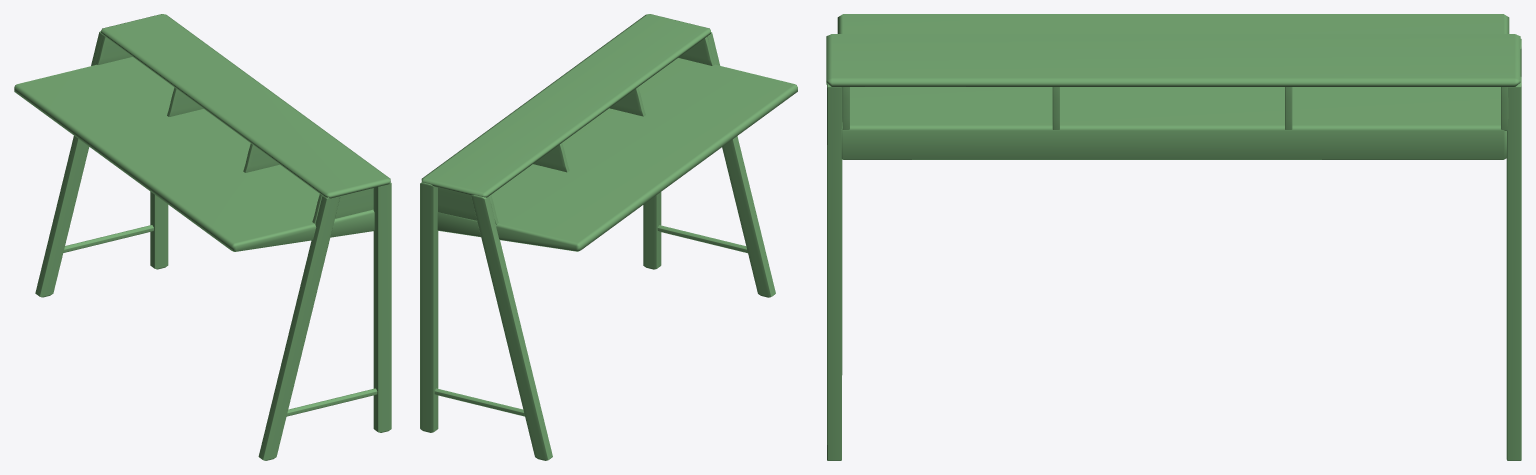
File: Table.fbx
3 views of the same model, side by side, from view 1: azimuth 30°, elevation 25°; view 2: azimuth 150°, elevation 25°; view 3: azimuth 270°, elevation 25° (orthographic). The views are drawn at different scales.
Parts seen in each view (by area): view 1: pCube37, pCube38, pCube47, pCube45, pCube46, pCube44, pCube40, pCube49, pCube48, pCube42, pCube43, pCube39; view 2: pCube37, pCube38, pCube46, pCube44, pCube47, pCube45, pCube39, pCube49, pCube48, pCube42, pCube40, pCube43; view 3: pCube37, pCube38, pCube44, pCube45.
Part boxes in pixels (left/top/right/bottom): pCube37: left=14, top=57, right=374, bottom=251; pCube38: left=101, top=14, right=390, bottom=198; pCube47: left=258, top=196, right=340, bottom=460; pCube45: left=373, top=182, right=391, bottom=432; pCube46: left=35, top=31, right=103, bottom=297; pCube44: left=150, top=191, right=168, bottom=269; pCube40: left=312, top=188, right=373, bottom=223; pCube49: left=286, top=388, right=377, bottom=416; pCube48: left=63, top=225, right=153, bottom=252; pCube42: left=243, top=143, right=279, bottom=172; pCube43: left=167, top=87, right=203, bottom=116; pCube39: left=96, top=35, right=132, bottom=64; pCube37: left=437, top=58, right=797, bottom=251; pCube38: left=421, top=14, right=710, bottom=197; pCube46: left=471, top=195, right=552, bottom=460; pCube44: left=420, top=182, right=438, bottom=432; pCube47: left=707, top=32, right=775, bottom=297; pCube45: left=643, top=192, right=661, bottom=269; pCube39: left=438, top=187, right=498, bottom=224; pCube49: left=657, top=225, right=747, bottom=253; pCube48: left=434, top=388, right=524, bottom=416; pCube42: left=609, top=87, right=645, bottom=116; pCube40: left=678, top=37, right=714, bottom=65; pCube43: left=533, top=143, right=569, bottom=172; pCube37: left=837, top=14, right=1509, bottom=159; pCube38: left=826, top=34, right=1520, bottom=86; pCube44: left=1506, top=77, right=1521, bottom=460; pCube45: left=827, top=84, right=841, bottom=460.
Size of the model in its own units: 61.04 by 94.24 by 155.
